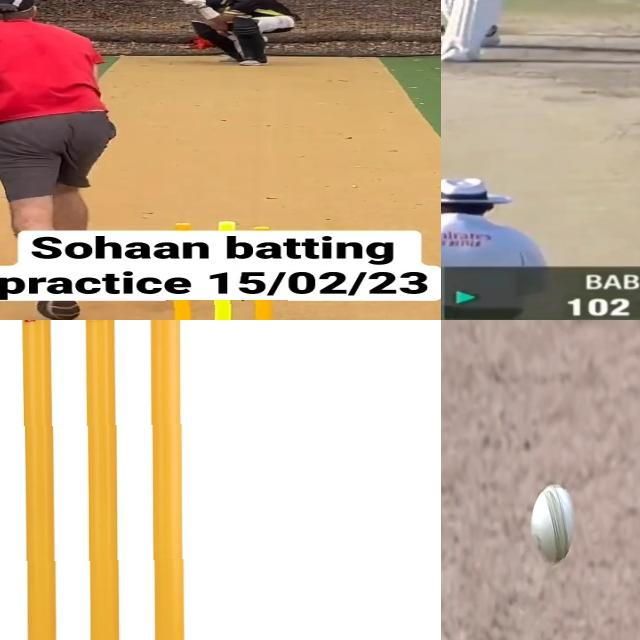Cricket ball: (531, 482, 576, 566)
Stumps: (0, 320, 265, 640)
